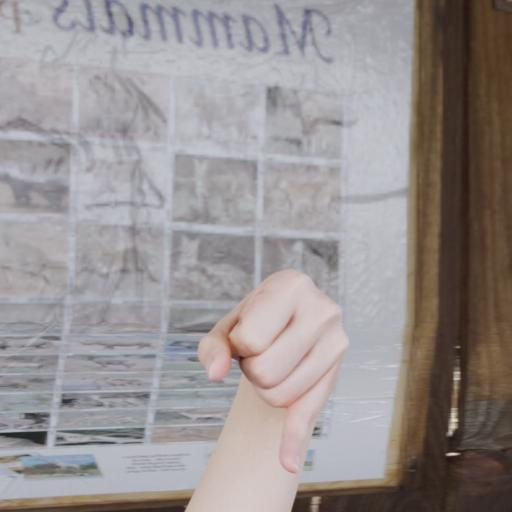J: (188, 252, 370, 483)
